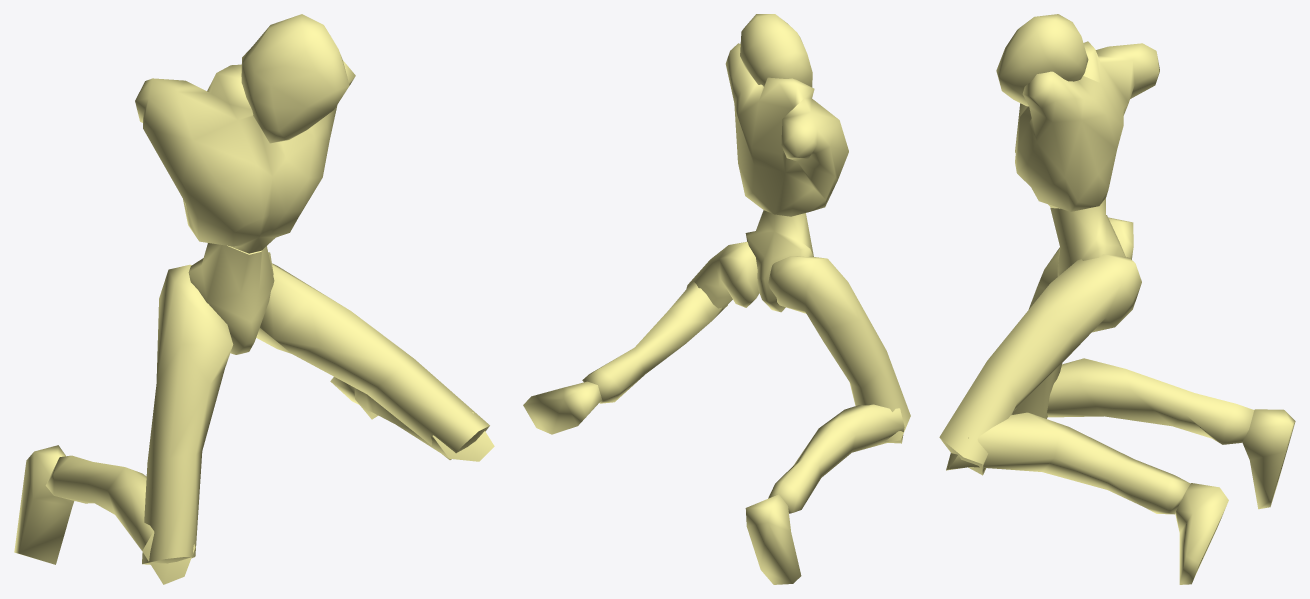
Rendered from filth7.obj.
The picture shows the model from 3 angles, left to right: view 1: azimuth 30°, elevation 25°; view 2: azimuth 150°, elevation 25°; view 3: azimuth 270°, elevation 25°; orthographic projection. The views are drawn at different scales.
Parts seen in each view (by area): view 1: Melee_Husk; view 2: Melee_Husk; view 3: Melee_Husk.
Part boxes in pixels (x1,y1,x2,y2): Melee_Husk: (14,14,494,584); Melee_Husk: (523,14,910,584); Melee_Husk: (939,14,1295,584).
Bounding box in the file's own units: 41.69 × 61.12 × 35.91.
